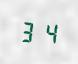four: (38, 19, 56, 44)
three: (19, 18, 37, 43)
